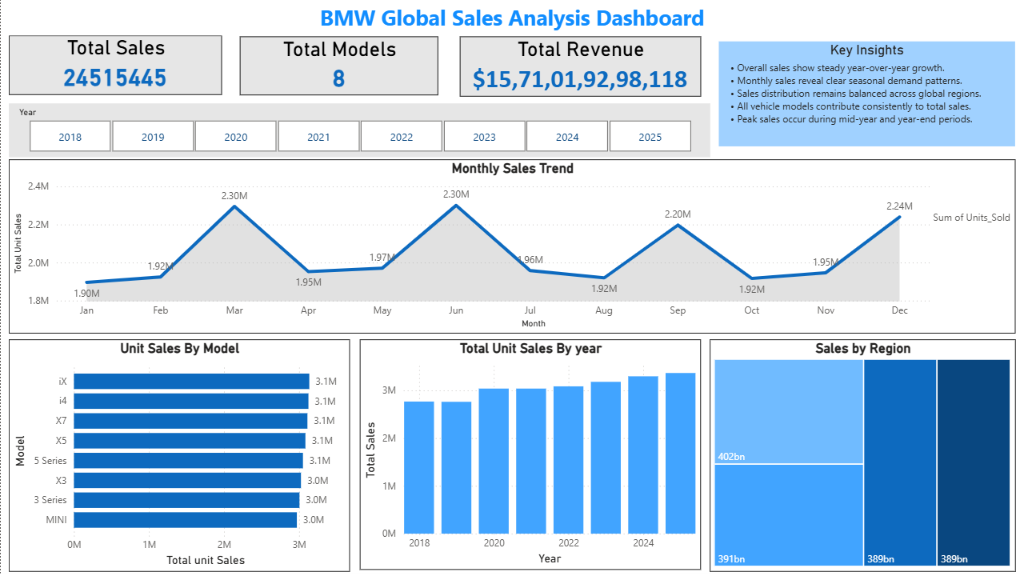

What the dashboard file says about the page in this screenshot:
{"tool":"powerbi","page":{"name":"Page 1","canvas":[1280,720],"ordinal":0},"visuals":[{"type":"barChart","title":"Unit Sales By Model","fields":{"Category":["bmw_global_sales_2018_2025.Model"],"Y":["Sum(bmw_global_sales_2018_2025.Units_Sold)"]},"box":[10.6,425.8,426,290],"z":0},{"type":"treemap","title":"Sales by Region","fields":{"Group":["bmw_global_sales_2018_2025.Region"],"Values":["Sum(bmw_global_sales_2018_2025.Revenue_EUR)"]},"box":[886.6,425.8,382,290],"z":1000},{"type":"columnChart","title":"Total Unit Sales By year","fields":{"Y":["Sum(bmw_global_sales_2018_2025.Units_Sold)"],"Category":["bmw_global_sales_2018_2025.Year"]},"box":[448.6,425.8,426,288],"z":2000},{"type":"lineChart","title":"Monthly Sales Trend","fields":{"Category":["bmw_global_sales_2018_2025.Monthly_View"],"Y":["Sum(bmw_global_sales_2018_2025.Units_Sold)"]},"box":[10.3,201.4,1258.3,217.7],"z":3000},{"type":"card","title":"Total Sales","fields":{"Values":["Sum(bmw_global_sales_2018_2025.Units_Sold)"]},"box":[10,46.2,266.6,74.6],"z":4000},{"type":"card","title":"Total Models","fields":{"Values":["Count(bmw_global_sales_2018_2025.Model)"]},"box":[298.8,47.5,248.2,73.4],"z":5000},{"type":"card","title":"Total Revenue","fields":{"Values":["Sum(bmw_global_sales_2018_2025.Revenue_EUR)"]},"box":[573.8,47.5,301.2,75],"z":6000},{"type":"textbox","box":[9.8,0,1258.3,46.5],"z":7000},{"type":"textbox","title":"Key Insights","box":[897.6,53.8,370.5,130.8],"z":8000},{"type":"slicer","fields":{"Values":["bmw_global_sales_2018_2025.Year"]},"box":[9.8,130.8,876.8,67.3],"z":9000}]}

Visuals, with their boxes in screenshot pixels (x1, y1, x2, y2), scaled from the page's 1280x720 canvas onto the 1019x574 screenshot:
"Unit Sales By Model" barChart: (x1=8, y1=339, x2=348, y2=571)
"Sales by Region" treemap: (x1=706, y1=339, x2=1010, y2=571)
"Total Unit Sales By year" columnChart: (x1=357, y1=339, x2=696, y2=569)
"Monthly Sales Trend" lineChart: (x1=8, y1=161, x2=1010, y2=334)
"Total Sales" card: (x1=8, y1=37, x2=220, y2=96)
"Total Models" card: (x1=238, y1=38, x2=435, y2=96)
"Total Revenue" card: (x1=457, y1=38, x2=697, y2=98)
textbox: (x1=8, y1=0, x2=1010, y2=37)
"Key Insights" textbox: (x1=715, y1=43, x2=1010, y2=147)
slicer - bmw_global_sales_2018_2025.Year: (x1=8, y1=104, x2=706, y2=158)
